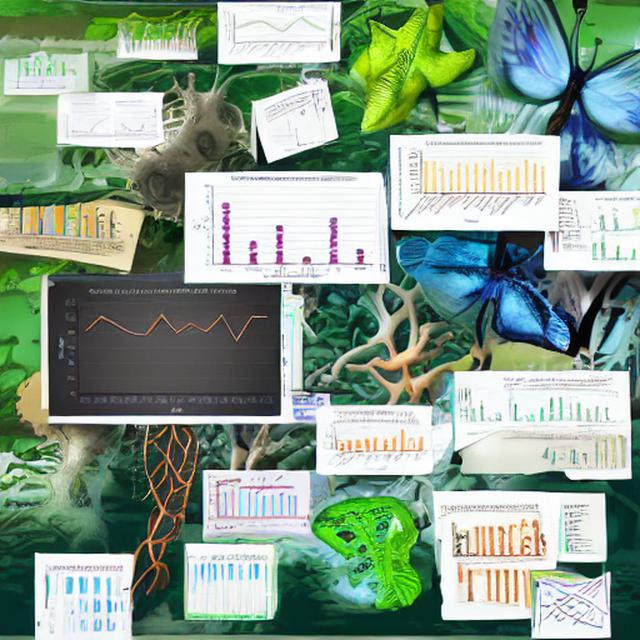Graph: (54, 284, 281, 416), (186, 174, 378, 282), (392, 140, 556, 229), (320, 408, 428, 474), (223, 2, 328, 61), (502, 387, 566, 426), (60, 110, 116, 142), (583, 232, 639, 264)
